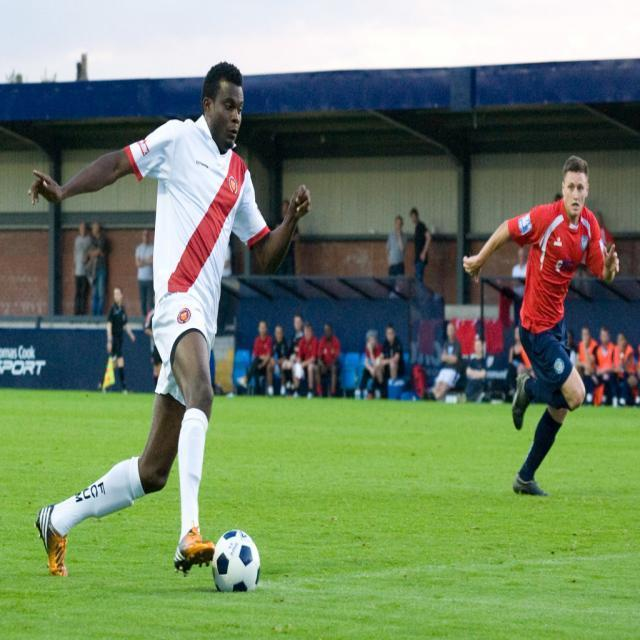football: (205, 520, 274, 593)
